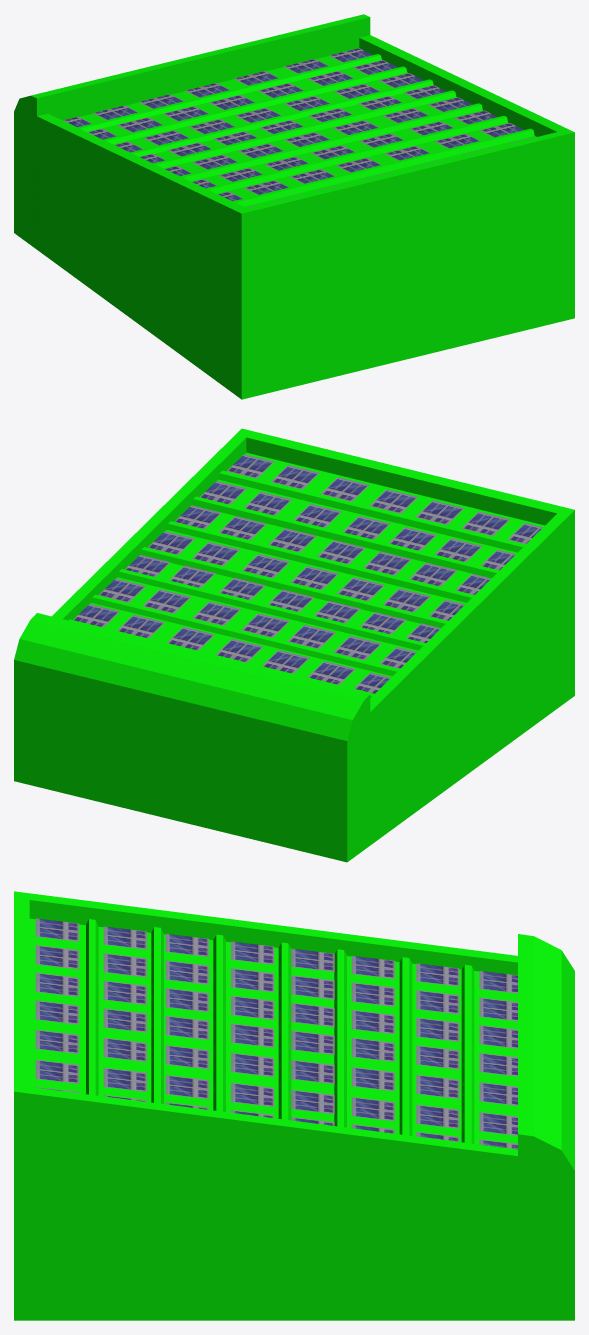
The model's file is building_8s_01.FBX.
The picture shows the model from 3 angles, top to bottom: view 1: azimuth 30°, elevation 25°; view 2: azimuth 150°, elevation 25°; view 3: azimuth 270°, elevation 25°; orthographic projection. The views are drawn at different scales.
Visible parts, largest first — view 1: building_8s_01; view 2: building_8s_01; view 3: building_8s_01.
Boxes of the visible parts, <box> form: building_8s_01: <box>14,14,574,399</box>; building_8s_01: <box>14,428,574,862</box>; building_8s_01: <box>14,891,574,1320</box>.
Bounding box in the file's own units: 30 × 16 × 35.51.
